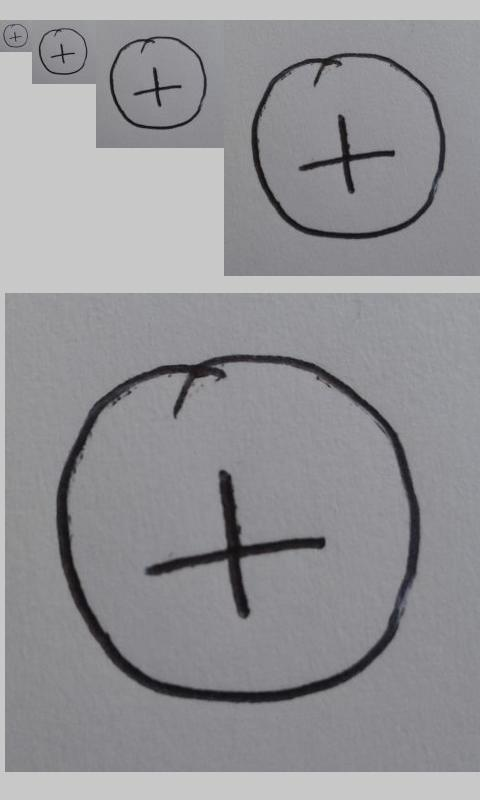button: (55, 351, 421, 705), (250, 52, 446, 240), (109, 36, 207, 130), (38, 28, 88, 75), (2, 23, 29, 48)
